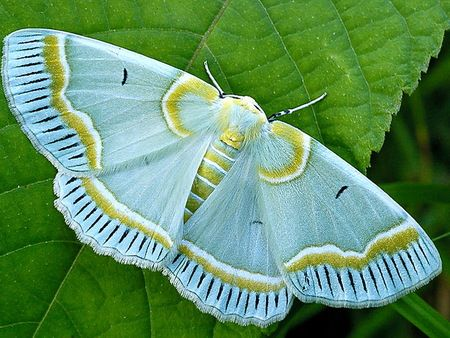feie: (3, 29, 443, 327)
